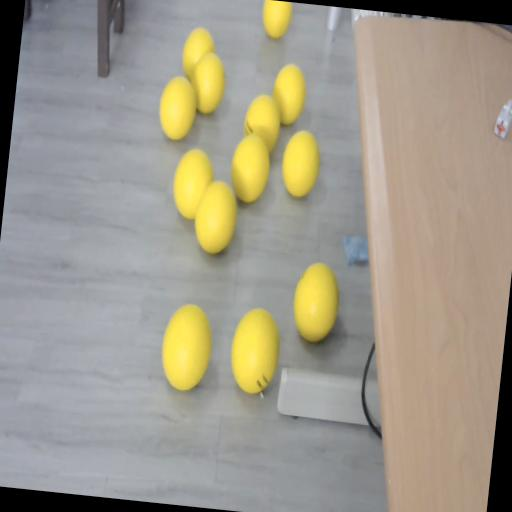FUEL: (157, 300, 216, 392), (226, 304, 284, 396), (288, 258, 344, 344), (190, 176, 241, 256), (226, 131, 274, 205), (279, 128, 323, 198), (156, 74, 199, 142), (188, 48, 229, 116), (270, 62, 308, 126), (260, 0, 293, 40)
